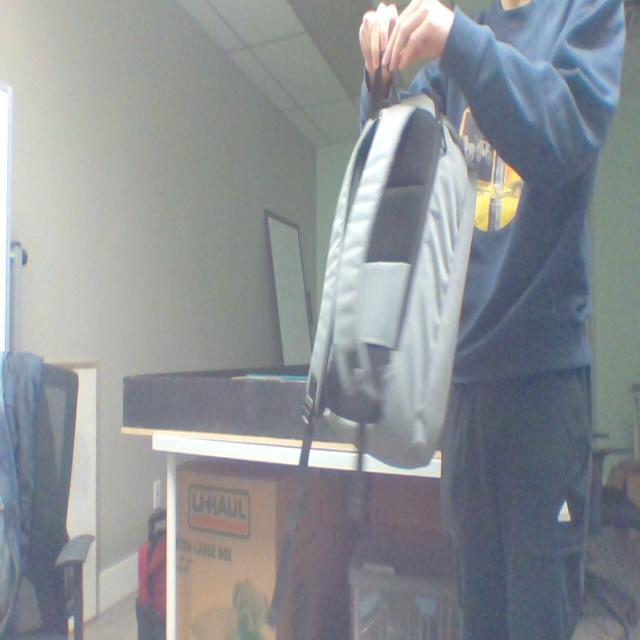Backpacks: (296, 101, 472, 464)
